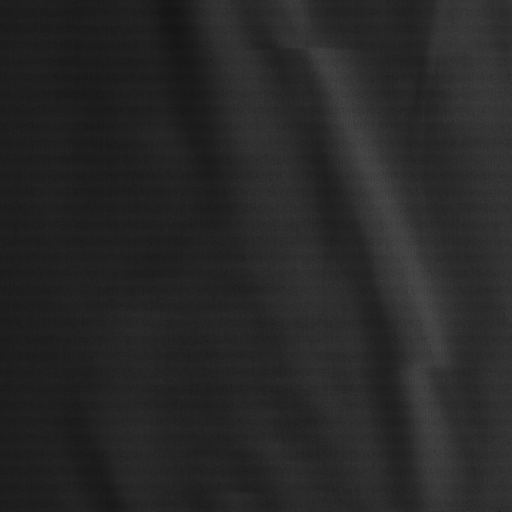defect: (492, 496, 512, 512)
